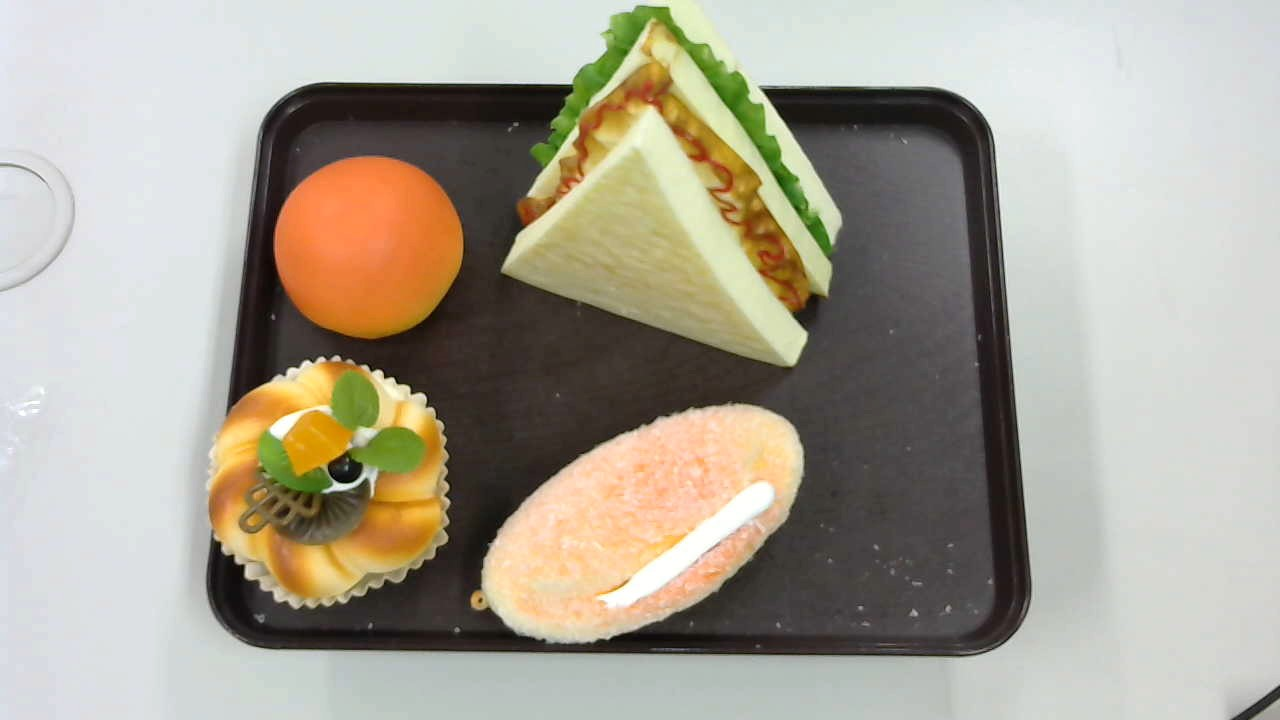bun: (273, 154, 462, 339)
coconut: (471, 400, 805, 649)
fruit tart: (206, 351, 450, 611)
sandwich: (501, 1, 843, 368)
